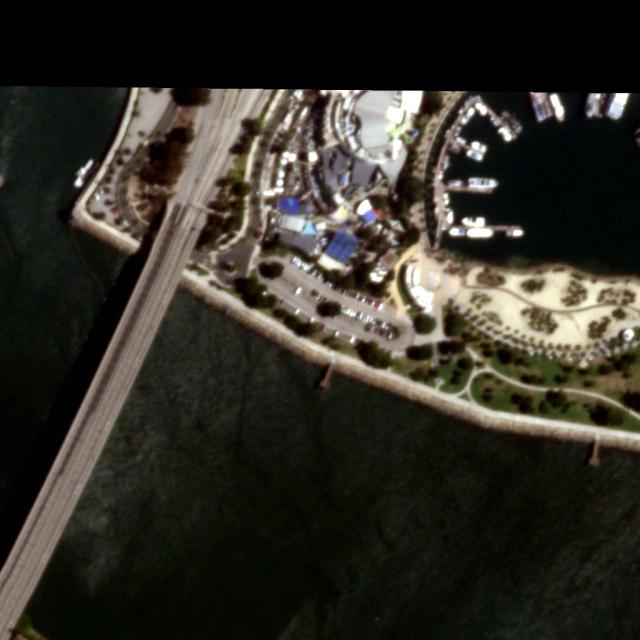boats: (465, 215, 495, 238), (548, 95, 565, 124), (469, 174, 498, 188), (468, 143, 486, 159)
